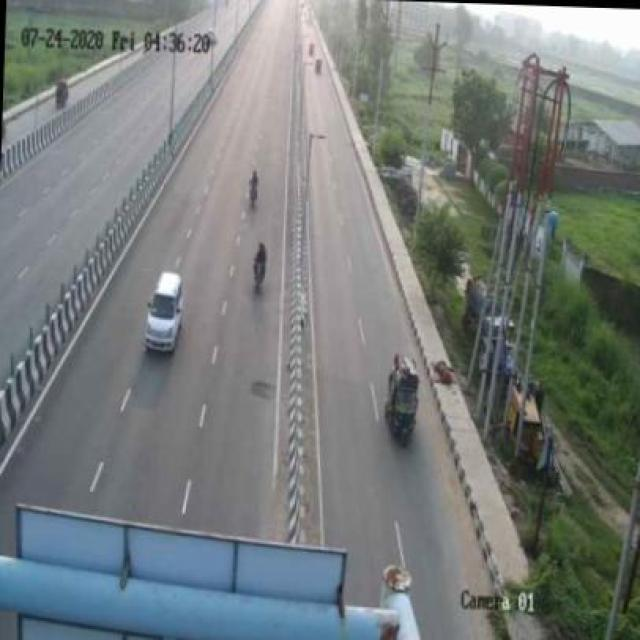car: (142, 266, 191, 360)
